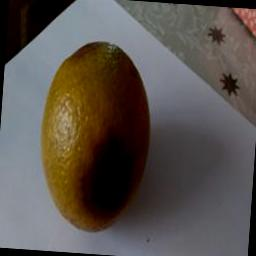Orange Overripe: (24, 34, 169, 240)
